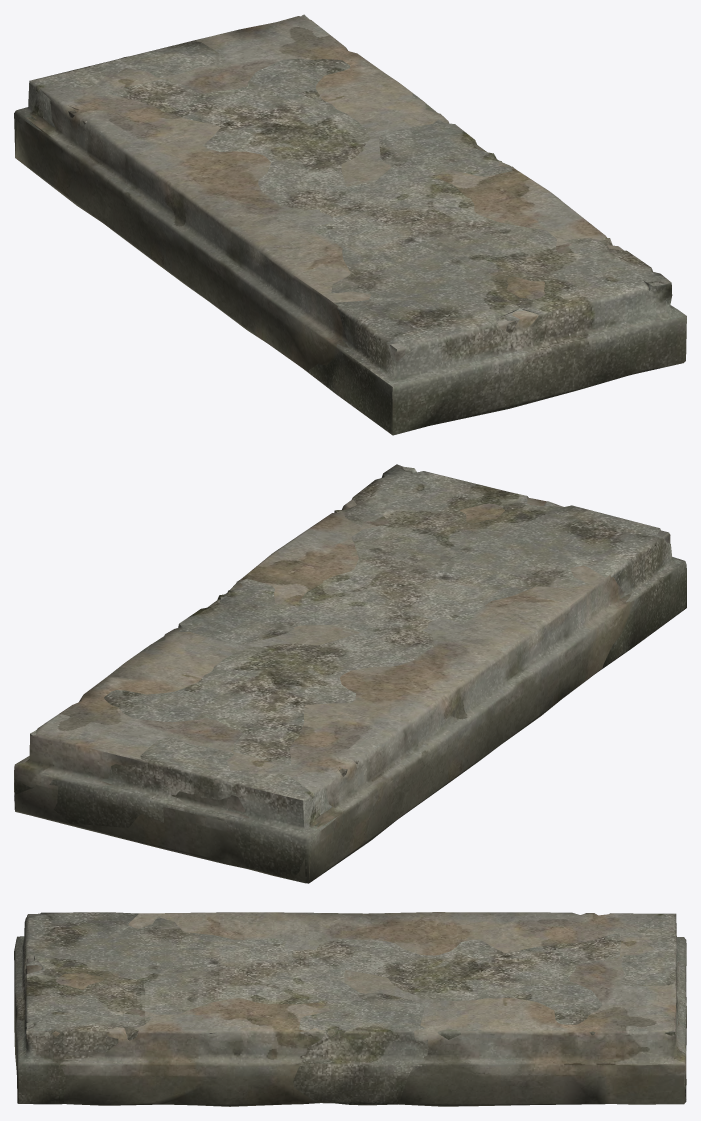
Rendered from ledger.glb.
3 views of the same model, one above another, from view 1: azimuth 30°, elevation 25°; view 2: azimuth 150°, elevation 25°; view 3: azimuth 270°, elevation 25° (orthographic). The views are drawn at different scales.
Visible parts, largest first — view 1: ledger_b, ledger_a; view 2: ledger_b, ledger_a; view 3: ledger_a, ledger_b.
Boxes of the visible parts, bbox=[...] form: ledger_b: bbox=[14, 14, 686, 435]; ledger_a: bbox=[14, 16, 648, 375]; ledger_b: bbox=[14, 464, 686, 883]; ledger_a: bbox=[14, 497, 670, 883]; ledger_a: bbox=[26, 912, 686, 1106]; ledger_b: bbox=[14, 912, 686, 1105].
Size of the model in its own units: 0.9123 by 0.2453 by 2.01.
2 materials, 2 textured.
